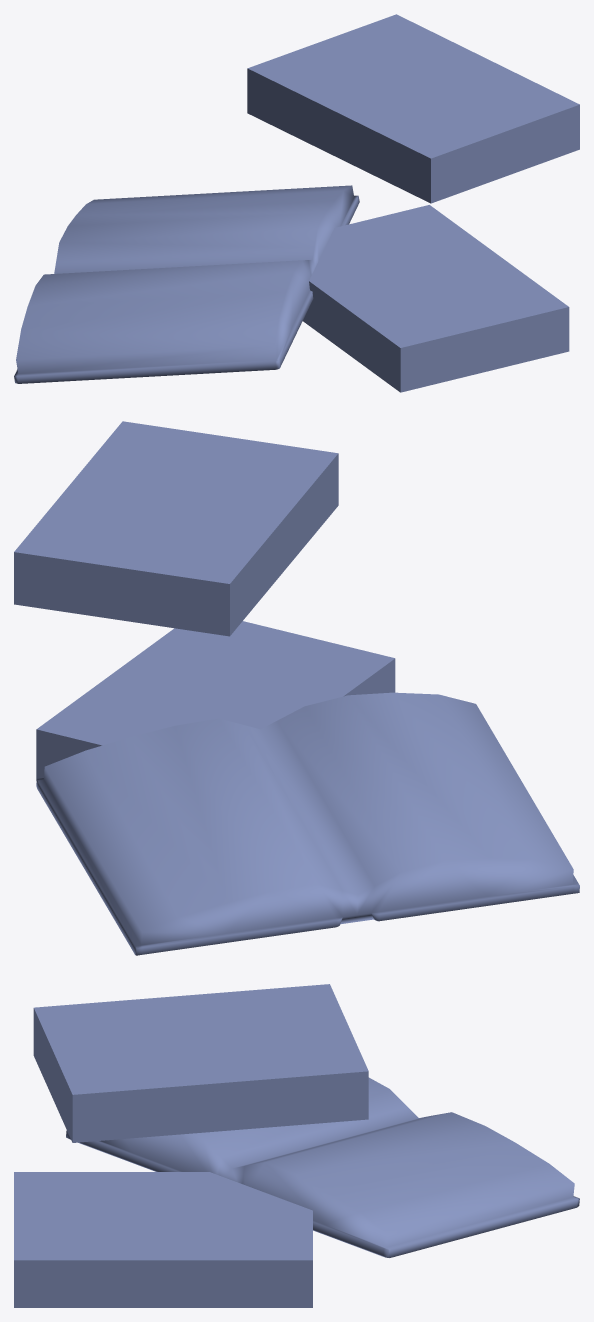
The model's file is Book_Pile_01B_Lod0.fbx.
The picture shows the model from 3 angles, top to bottom: view 1: azimuth 30°, elevation 25°; view 2: azimuth 150°, elevation 25°; view 3: azimuth 270°, elevation 25°; orthographic projection. The views are drawn at different scales.
Visible parts, largest first — view 1: Book_Pile_01B_Lod0; view 2: Book_Pile_01B_Lod0; view 3: Book_Pile_01B_Lod0.
Part boxes in pixels (left/top/right/bottom): Book_Pile_01B_Lod0: left=14, top=14, right=579, bottom=392; Book_Pile_01B_Lod0: left=14, top=421, right=579, bottom=955; Book_Pile_01B_Lod0: left=14, top=984, right=579, bottom=1307.
Size of the model in its own units: 52.47 by 23.7 by 50.13.
